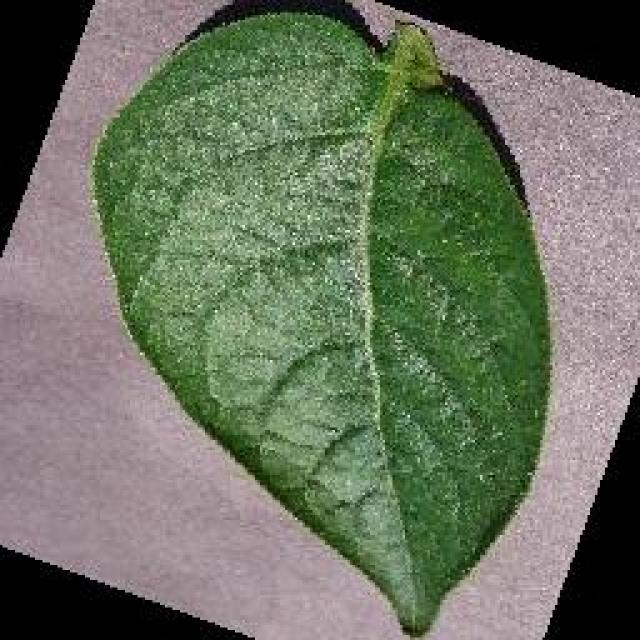Potato___healthy: (90, 12, 556, 638)
